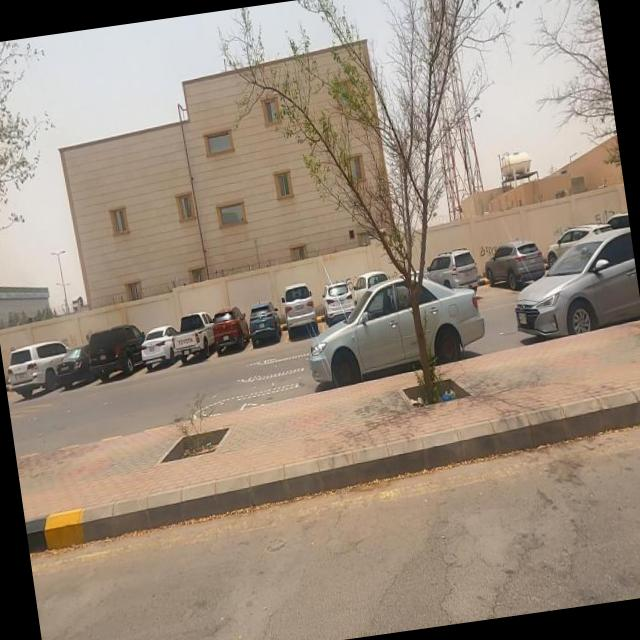debris: (410, 342, 480, 432), (384, 368, 439, 429)
